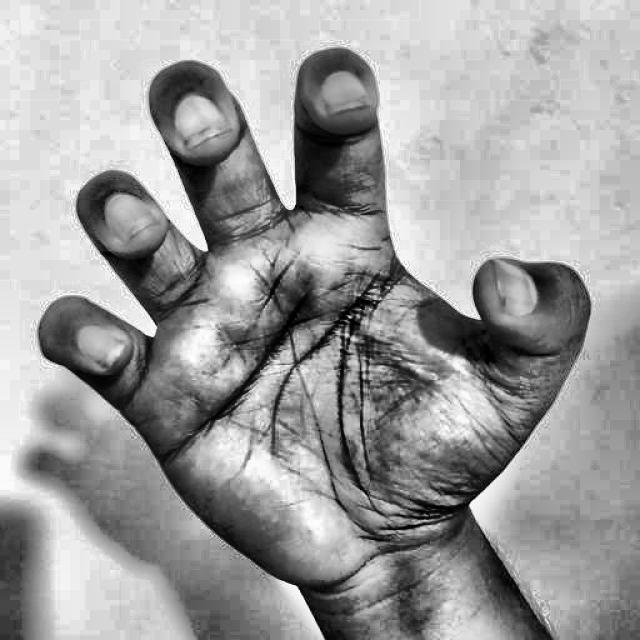Ja: (29, 20, 610, 632)
